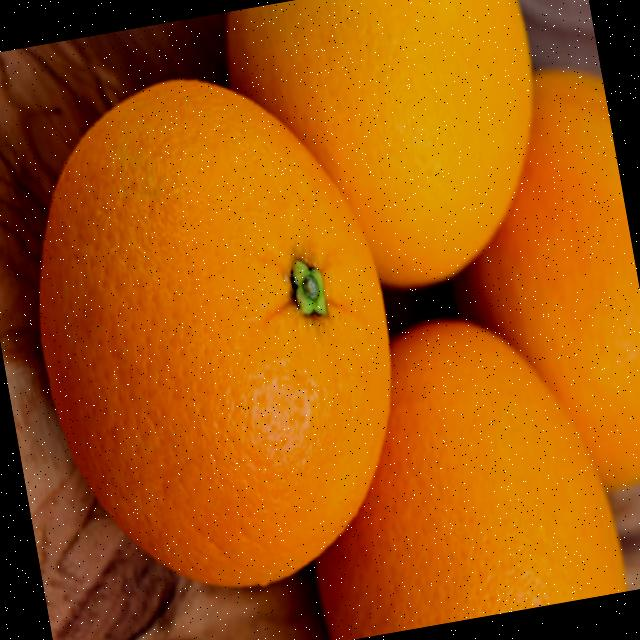Ripe: (0, 43, 428, 622), (383, 282, 634, 624), (315, 0, 570, 293)
